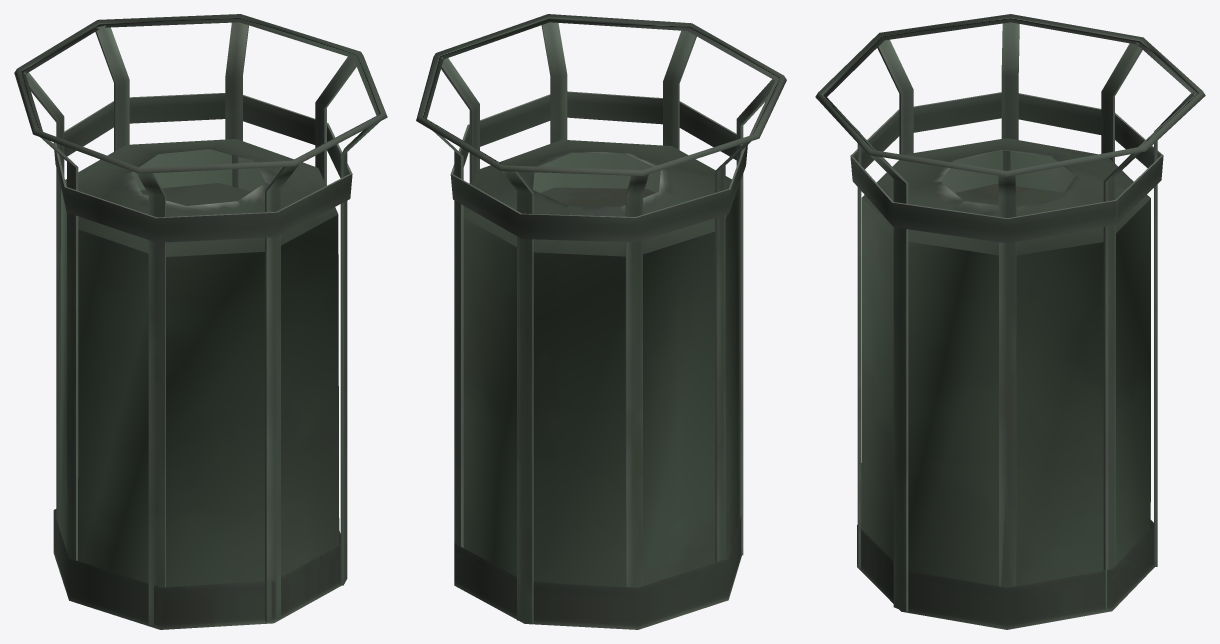
Rendered from Public_Trashcan.fbx.
3 renders of one model, left to right at view 1: azimuth 30°, elevation 25°; view 2: azimuth 150°, elevation 25°; view 3: azimuth 270°, elevation 25°, orthographic.
Parts seen in each view (by area): view 1: SM_Public_Trash_Can; view 2: SM_Public_Trash_Can; view 3: SM_Public_Trash_Can.
Part boxes in pixels (x1=…): SM_Public_Trash_Can: x1=14, y1=14, x2=387, y2=629; SM_Public_Trash_Can: x1=416, y1=14, x2=786, y2=629; SM_Public_Trash_Can: x1=815, y1=14, x2=1205, y2=629.
Size of the model in its own units: 0.6222 by 0.8634 by 0.6435.
